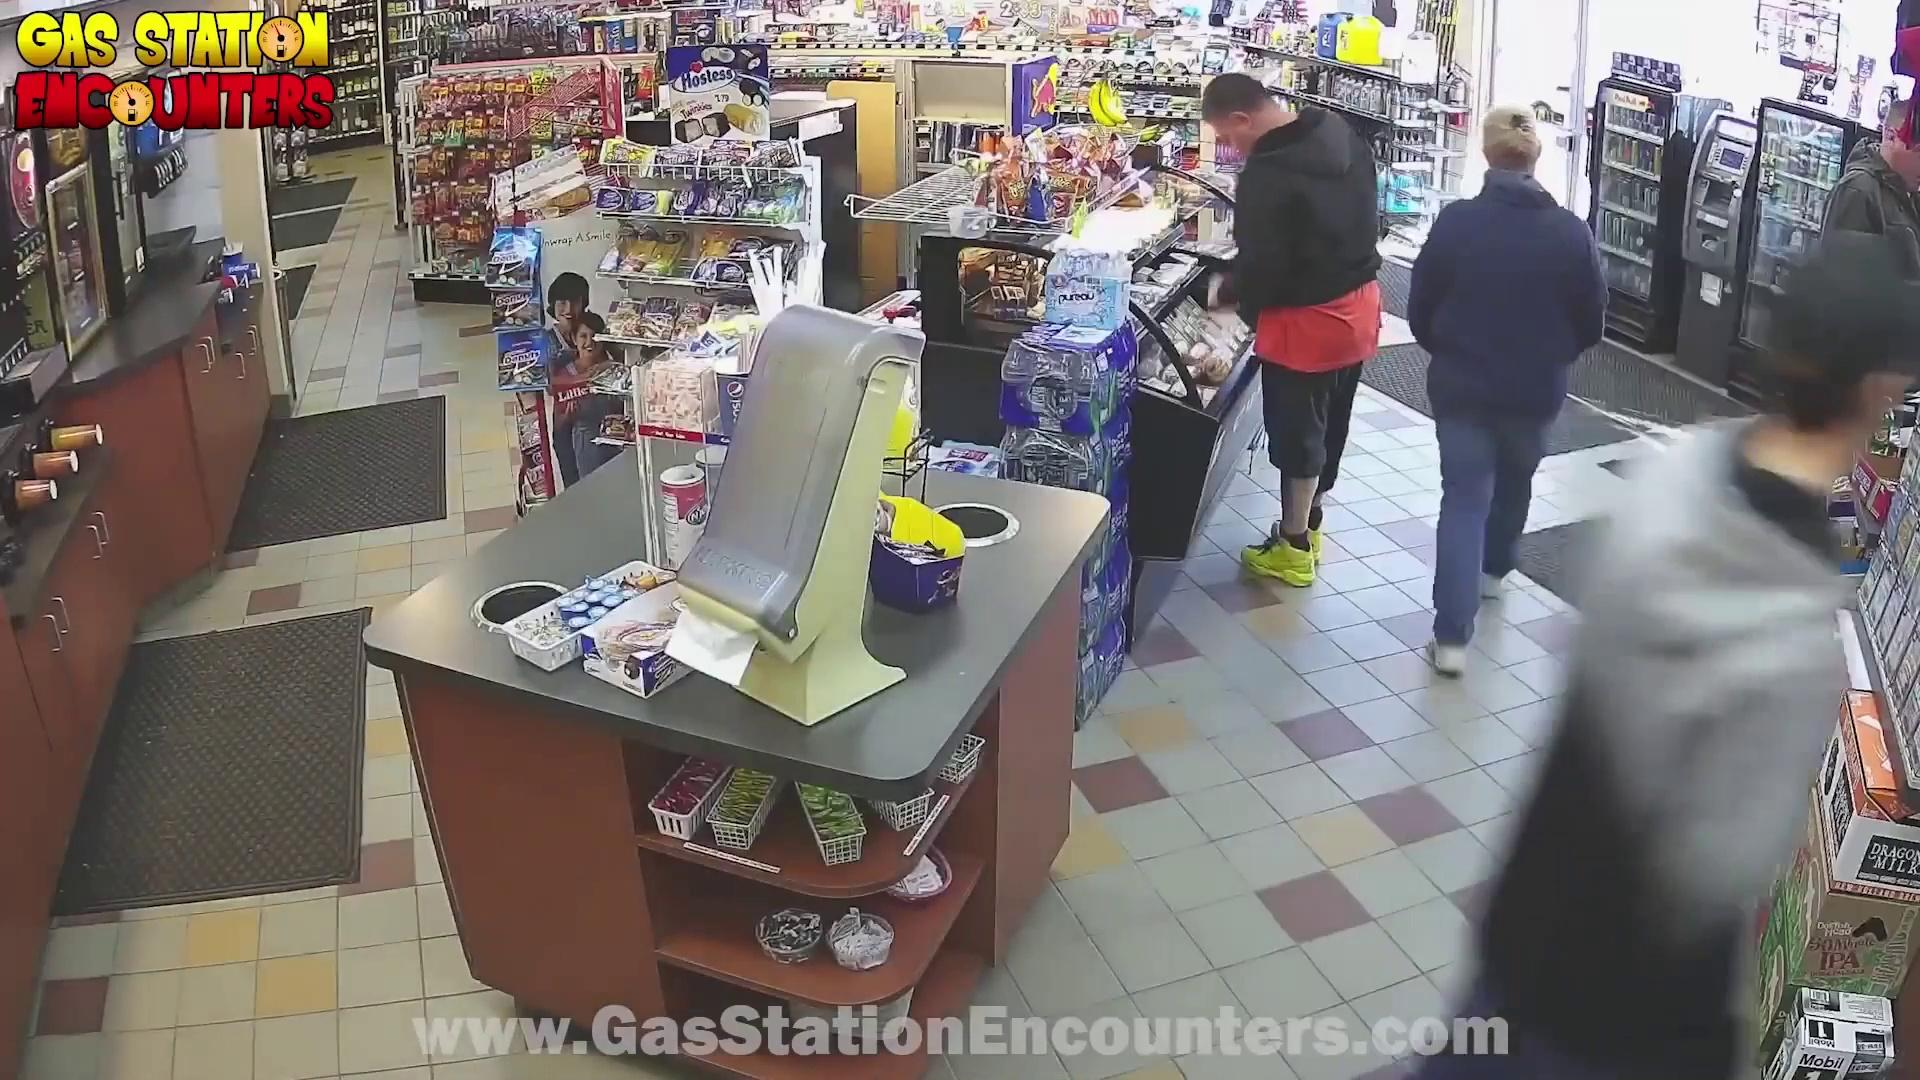Product: (1178, 245, 1236, 315)
Product-Picked: (1118, 47, 1420, 626)
Regular: (1610, 185, 1920, 1080), (1411, 67, 1590, 684), (1797, 53, 1920, 211)
